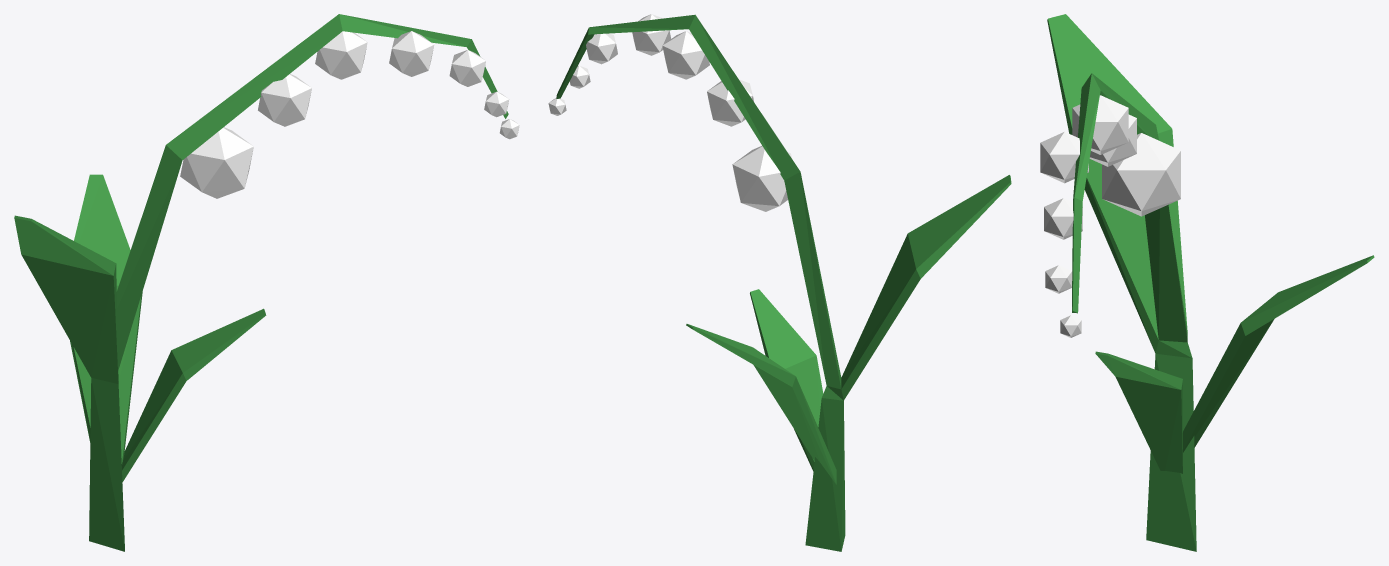
The model's file is white_flower2.obj.
3 views of the same model, side by side, from view 1: azimuth 30°, elevation 25°; view 2: azimuth 150°, elevation 25°; view 3: azimuth 270°, elevation 25° (orthographic). The views are drawn at different scales.
Bounding box in the file's own units: 3.35 × 3.22 × 1.71.
